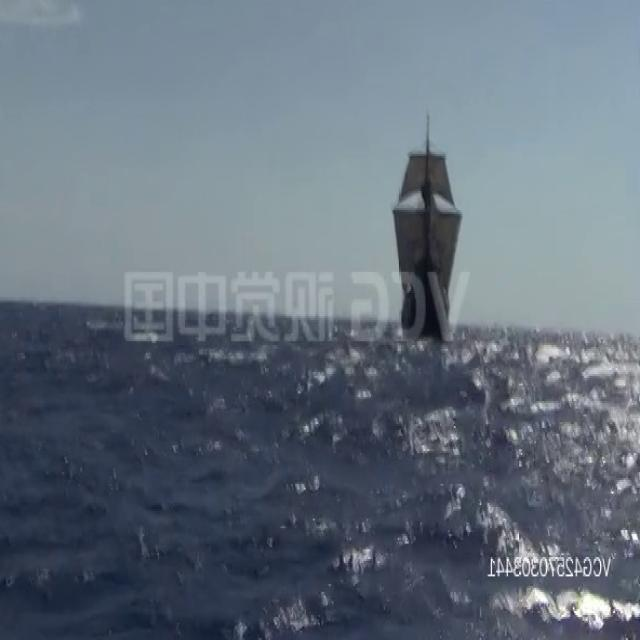sailboat: (391, 106, 464, 334)
